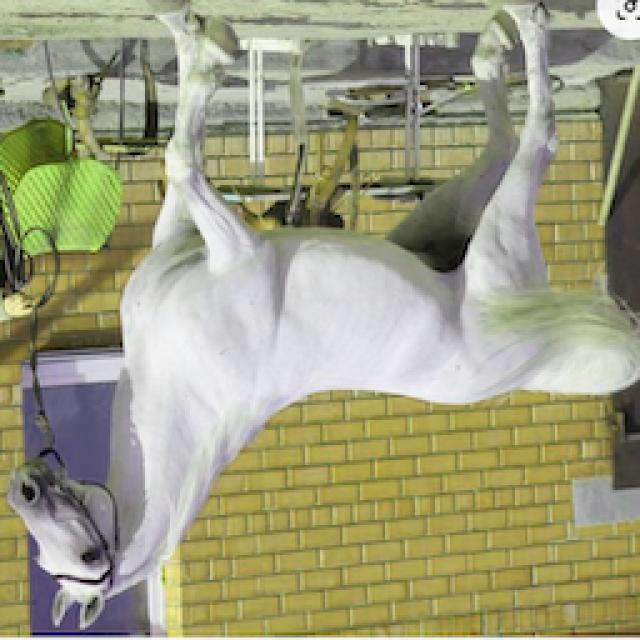Horse: (2, 2, 638, 632)
